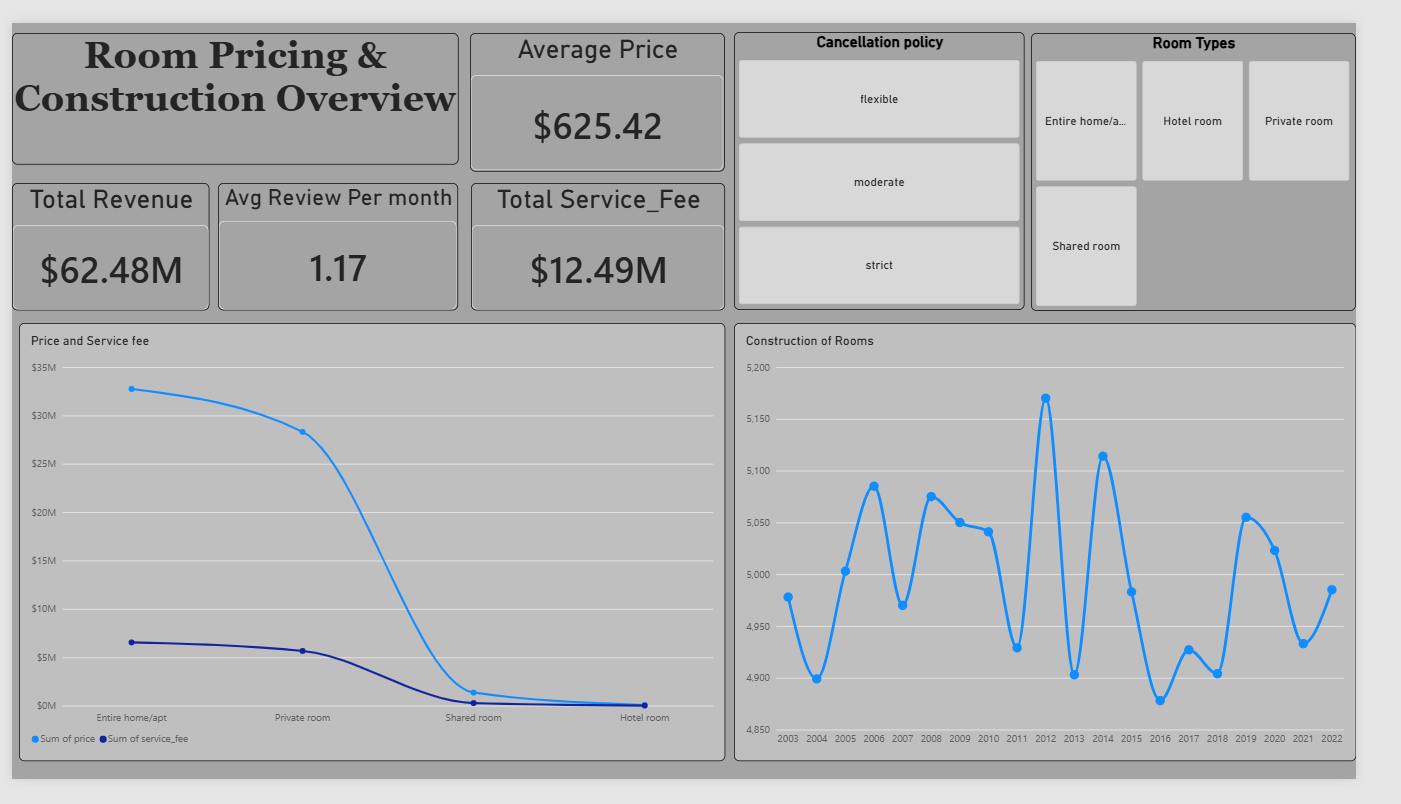

Layout of this report page (visuals, bound fields, positions):
{"tool":"powerbi","page":{"name":"Rooms constuctions and pricing","canvas":[1920,1080],"ordinal":1},"visuals":[{"type":"lineChart","title":"Price and Service fee","fields":{"Category":["public data_clean.room_type"],"Y":["Sum(public data_clean.price)","Sum(public data_clean.service_fee)"]},"box":[10.2,453.7,1008.1,625.9],"z":0},{"type":"cardVisual","title":"Average Price","fields":{"Data":["Avg(public data_clean.price)"]},"box":[654.7,14.2,363.6,198],"z":1000},{"type":"cardVisual","title":"Total Service_Fee","fields":{"Data":["Sum(public data_clean.service_fee)"]},"box":[655.1,229.1,363.3,182.4],"z":2000},{"type":"advancedSlicerVisual","title":"Room Types","fields":{"Values":["public data_clean.room_type"]},"box":[1455.5,14.2,437.3,397.2],"z":3000},{"type":"advancedSlicerVisual","title":"Cancellation policy","fields":{"Values":["public data_clean.cancellation_policy"]},"box":[1031.2,12.9,415.3,397.2],"z":4000},{"type":"lineChart","title":"Construction of Rooms","fields":{"Y":["CountNonNull(public data_clean.room_type)"],"Category":["public data_clean.construction_year"]},"box":[1031.5,453.7,888.5,625.9],"z":5000},{"type":"cardVisual","title":"Avg Review Per month","fields":{"Data":["Avg(public data_clean.reviews_per_month)"]},"box":[295,229,342.9,182.4],"z":6000},{"type":"cardVisual","title":"Total Revenue","fields":{"Data":["Sum(public data_clean.price)"]},"box":[0,229,282,182.4],"z":7000},{"type":"textbox","box":[0,14.2,637.8,187.6],"z":8000}]}

Visuals, with their boxes in screenshot pixels (x1, y1, x2, y2), scaled from the page's 1920x1080 canvas onto the 1401x804 screenshot:
"Price and Service fee" lineChart: x1=7, y1=338, x2=743, y2=803
"Average Price" cardVisual: x1=478, y1=11, x2=743, y2=158
"Total Service_Fee" cardVisual: x1=478, y1=171, x2=743, y2=306
"Room Types" advancedSlicerVisual: x1=1062, y1=11, x2=1381, y2=306
"Cancellation policy" advancedSlicerVisual: x1=752, y1=10, x2=1055, y2=305
"Construction of Rooms" lineChart: x1=753, y1=338, x2=1400, y2=803
"Avg Review Per month" cardVisual: x1=215, y1=170, x2=465, y2=306
"Total Revenue" cardVisual: x1=0, y1=170, x2=206, y2=306
textbox: x1=0, y1=11, x2=465, y2=150
